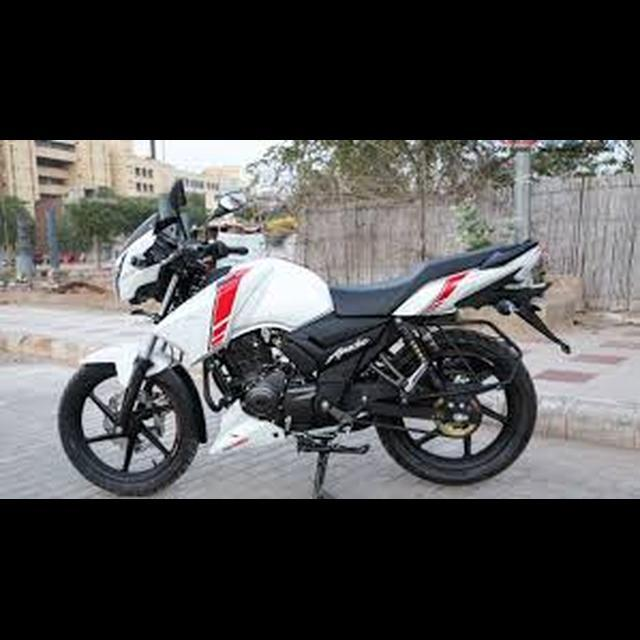motorcycle: (55, 169, 581, 499)
